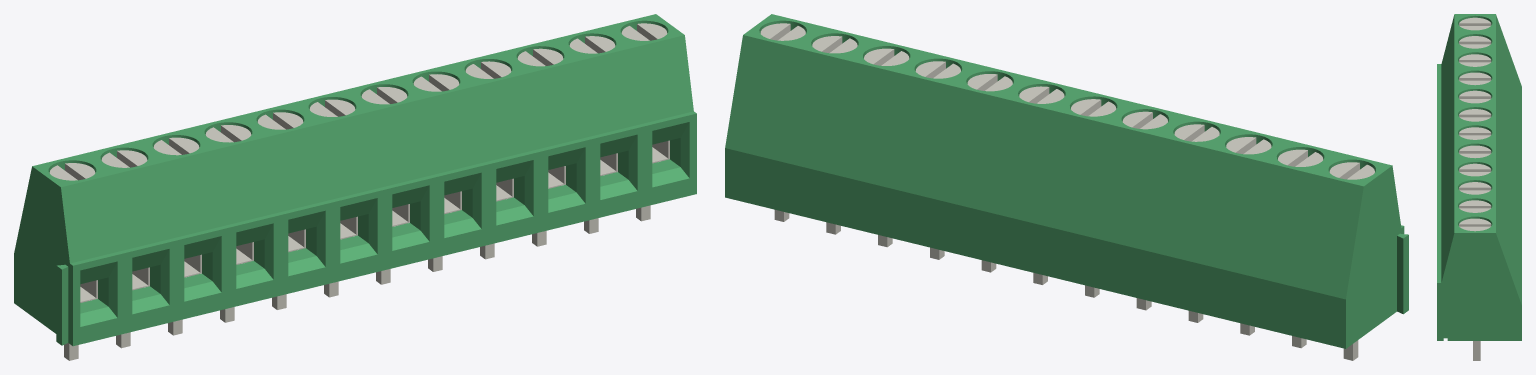
Rendered from kc-terminalblock_phoenix_mkds-1_5-12_1x12_p5.00mm_horizontal.glb.
3 views of the same model, side by side, from view 1: azimuth 30°, elevation 25°; view 2: azimuth 150°, elevation 25°; view 3: azimuth 270°, elevation 25° (orthographic). The views are drawn at different scales.
Parts seen in each view (by area): view 1: 0.08333333333333333_0.4166666666666667_0.16666666666666666_0, 0.6666666666666666_0.6666666666666666_0.5833333333333334_0.8; view 2: 0.08333333333333333_0.4166666666666667_0.16666666666666666_0, 0.6666666666666666_0.6666666666666666_0.5833333333333334_0.8; view 3: 0.08333333333333333_0.4166666666666667_0.16666666666666666_0, 0.6666666666666666_0.6666666666666666_0.5833333333333334_0.8.
Boxes of the visible parts, x1=… form: 0.08333333333333333_0.4166666666666667_0.16666666666666666_0: x1=14, y1=14, x2=696, y2=346; 0.6666666666666666_0.6666666666666666_0.5833333333333334_0.8: x1=49, y1=23, x2=669, y2=360; 0.08333333333333333_0.4166666666666667_0.16666666666666666_0: x1=725, y1=14, x2=1408, y2=348; 0.6666666666666666_0.6666666666666666_0.5833333333333334_0.8: x1=760, y1=23, x2=1374, y2=360; 0.08333333333333333_0.4166666666666667_0.16666666666666666_0: x1=1437, y1=14, x2=1521, y2=340; 0.6666666666666666_0.6666666666666666_0.5833333333333334_0.8: x1=1459, y1=17, x2=1491, y2=360.
Size of the model in its own units: 6.07 by 1.73 by 0.9802.
